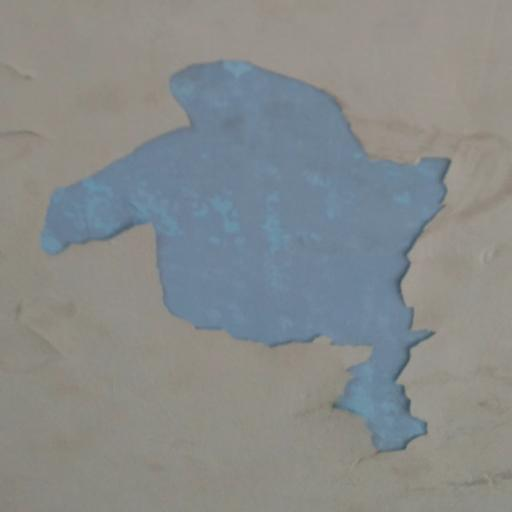peeling: (39, 48, 450, 471)
